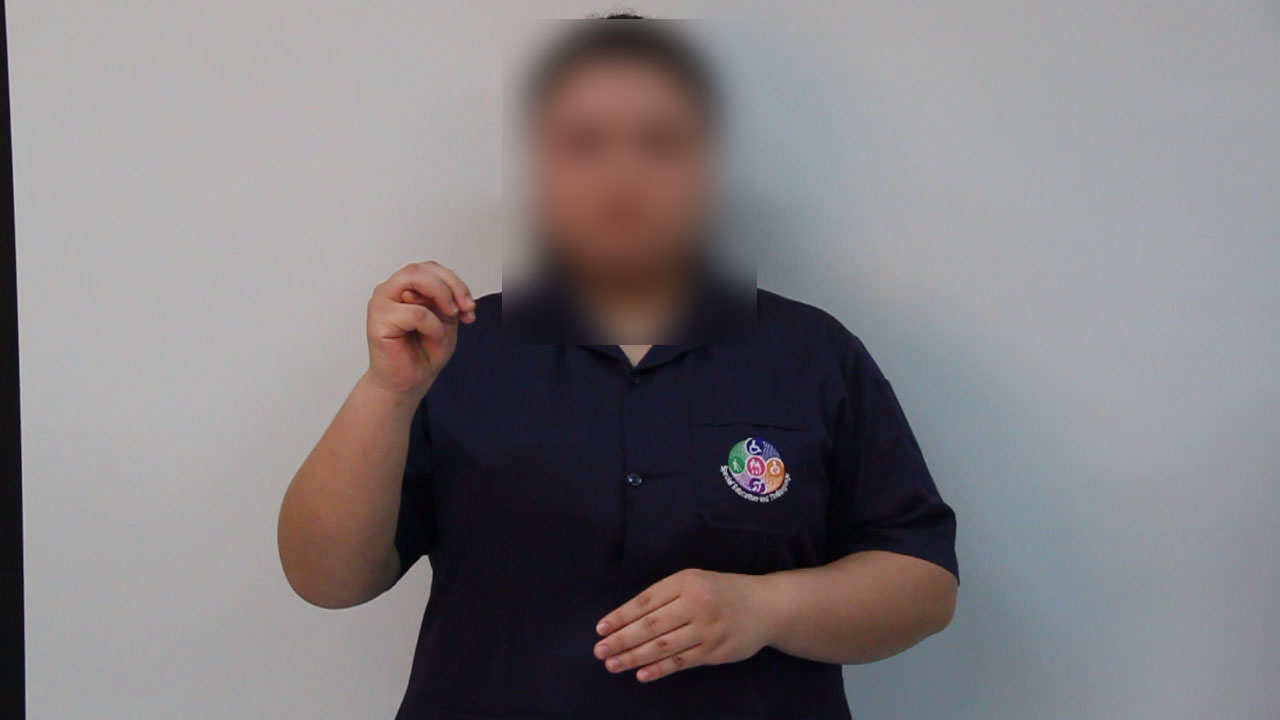mor: (355, 233, 489, 419)
